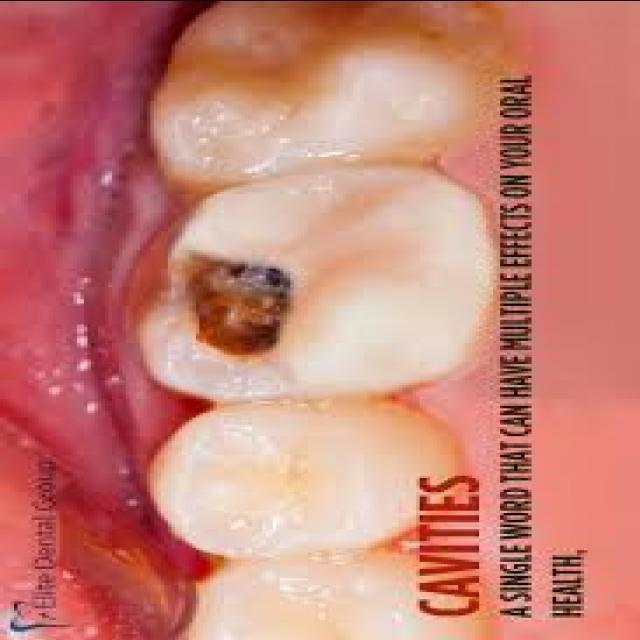decay: (172, 248, 302, 357)
